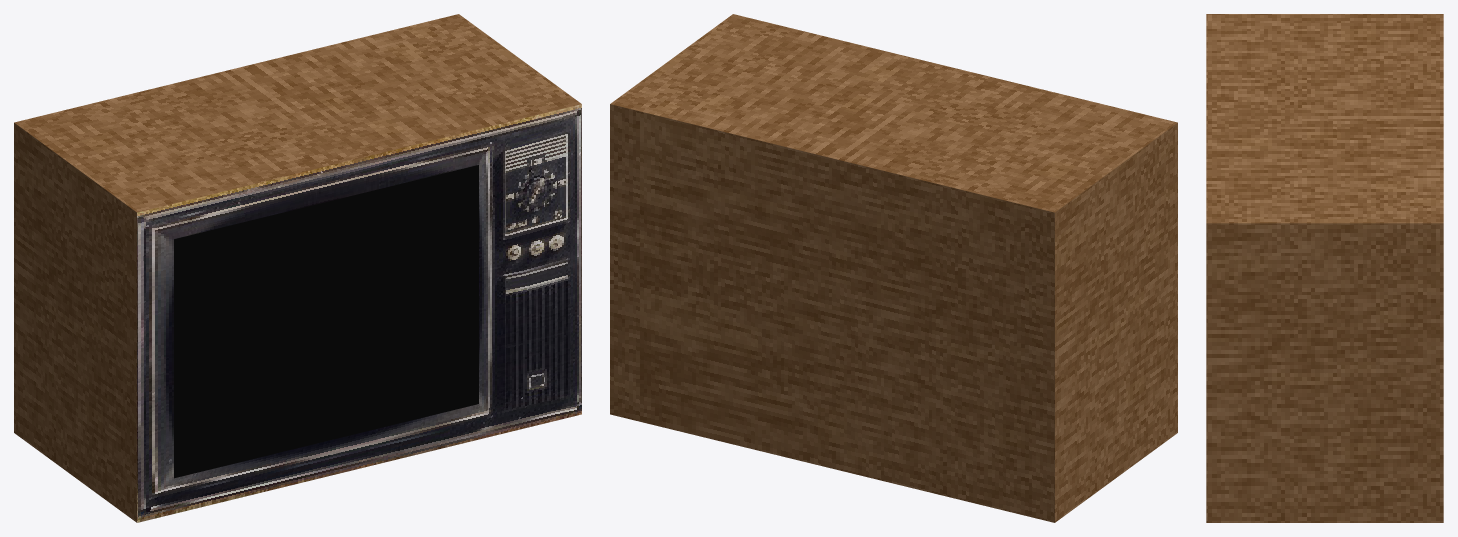
The picture shows the model from 3 angles, left to right: view 1: azimuth 30°, elevation 25°; view 2: azimuth 150°, elevation 25°; view 3: azimuth 270°, elevation 25°; orthographic projection. The views are drawn at different scales.
Visible parts, largest first — view 1: tv; view 2: tv; view 3: tv.
Boxes of the visible parts, x1,y1,x2,y2 form: tv: (14,14,581,522); tv: (610,14,1177,522); tv: (1206,14,1443,522).
Size of the model in its own units: 3 by 2 by 1.44.
3 materials, 2 textured.
